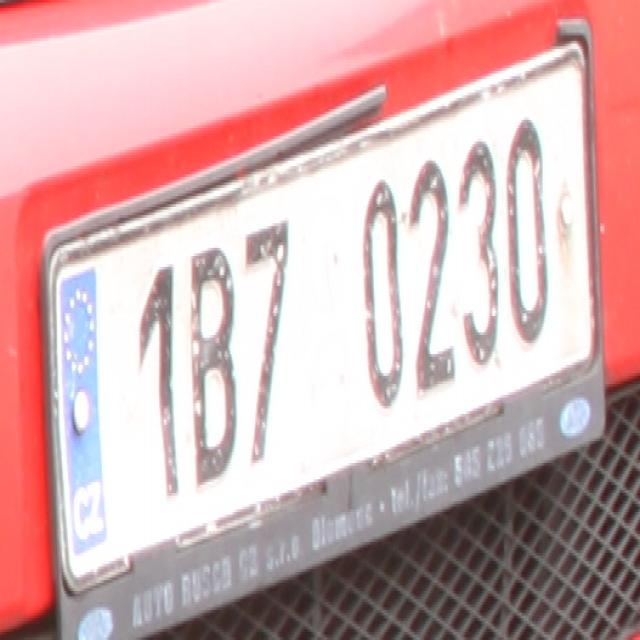0: (360, 177, 404, 409), (506, 117, 549, 346)
1: (140, 264, 182, 501)
2: (409, 158, 459, 406)
3: (458, 139, 500, 370)
7: (243, 218, 289, 463)
B: (188, 248, 237, 490)
